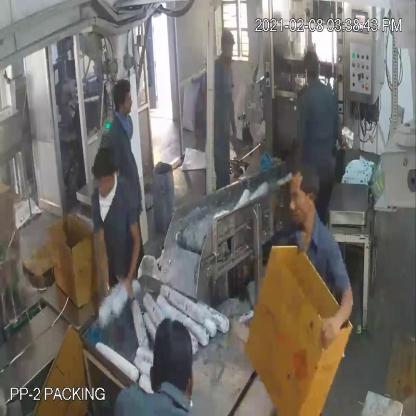no_glove: (319, 272, 358, 358), (126, 206, 148, 300), (91, 217, 113, 306)
